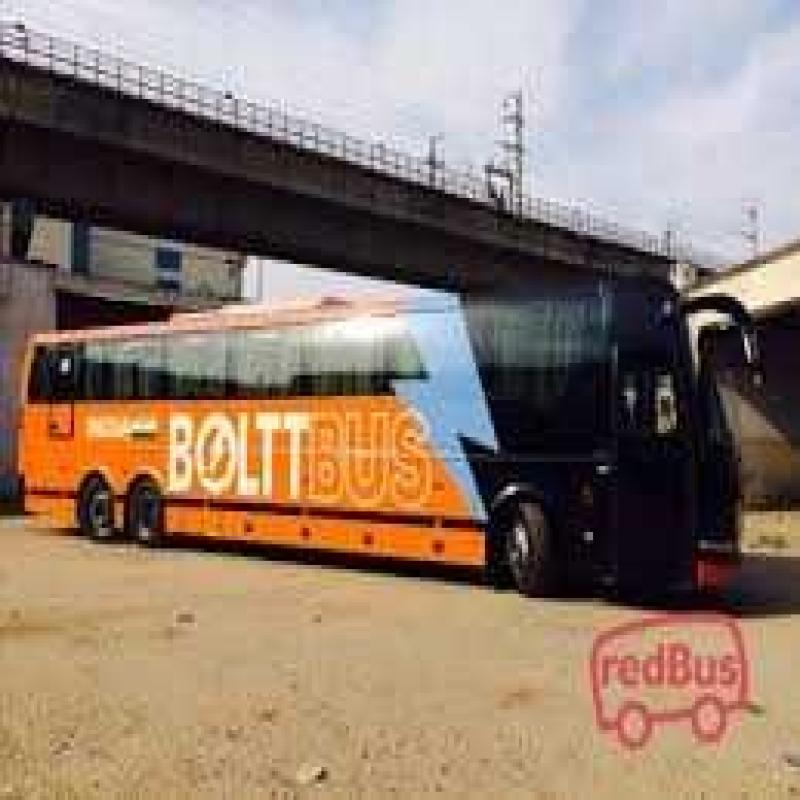bus: (11, 296, 752, 645)
